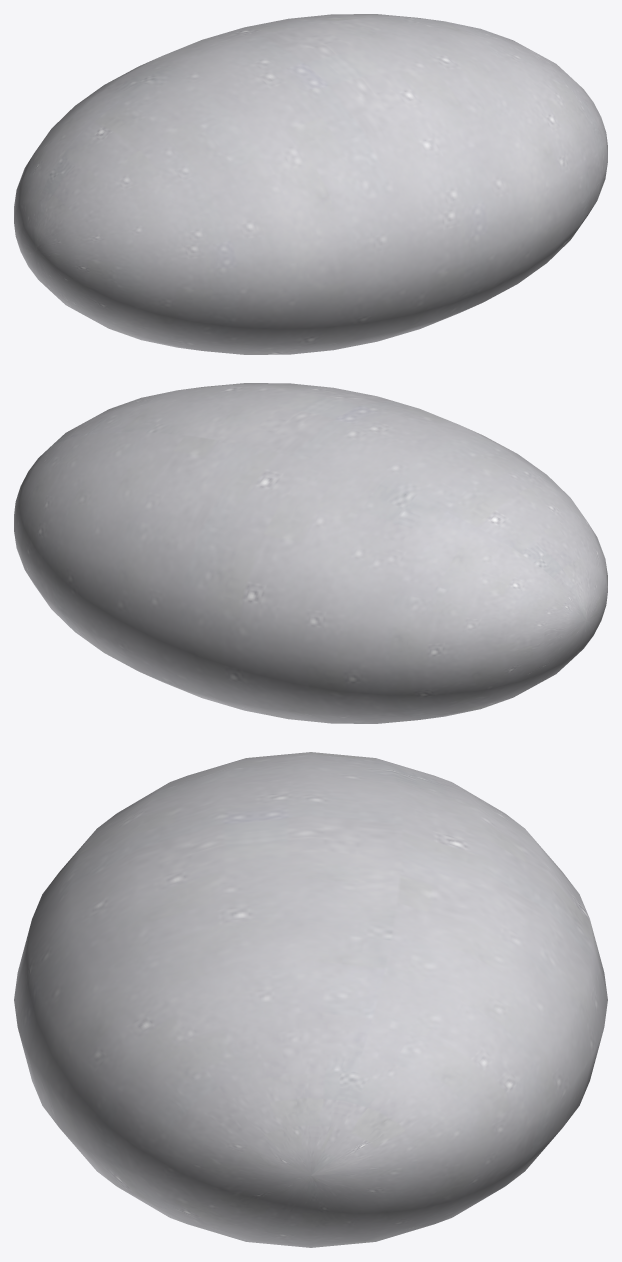
The model's file is zhangnaowan.fbx.
The picture shows the model from 3 angles, top to bottom: view 1: azimuth 30°, elevation 25°; view 2: azimuth 150°, elevation 25°; view 3: azimuth 270°, elevation 25°; orthographic projection. The views are drawn at different scales.
Parts seen in each view (by area): view 1: zhangnaowan; view 2: zhangnaowan; view 3: zhangnaowan.
Part boxes in pixels (<box>): zhangnaowan: <box>14,14,607,354</box>; zhangnaowan: <box>14,383,607,723</box>; zhangnaowan: <box>14,752,607,1247</box>.
Size of the model in its own units: 1.4 by 0.65 by 1.
Materials: 1 (1 with a texture image).
